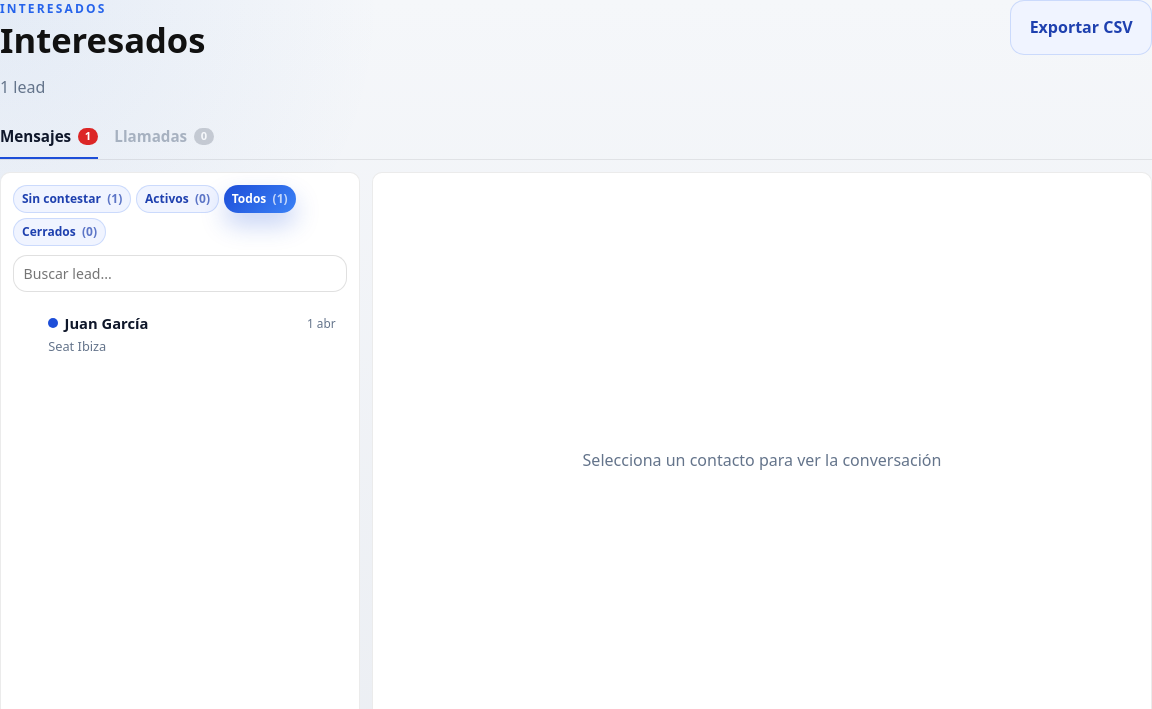
LeadsList — edit mode › enters edit mode on Editar click
What coordinates should you click on to do the following:
click the text "Juan García"
I would click on:
 (98, 323)
Its box is [48, 312, 148, 334].
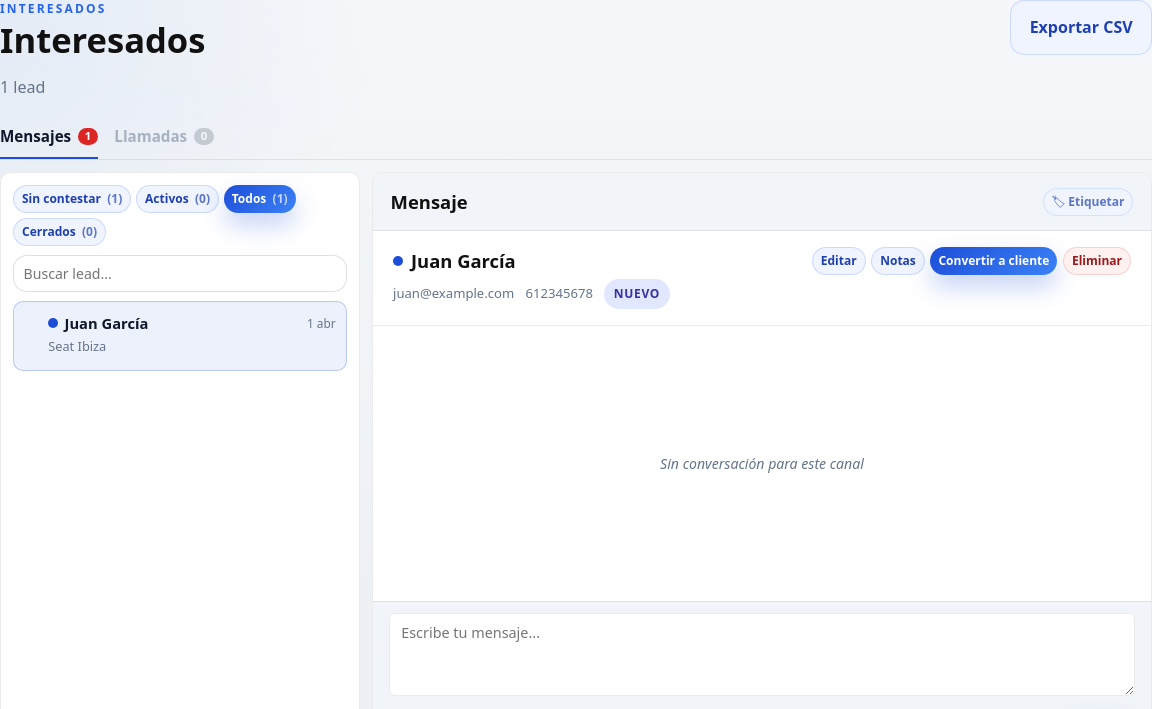
What coordinates should you click on to do the following:
click the button "Editar"
I would click on:
 (839, 261)
Its box is [812, 247, 866, 275].
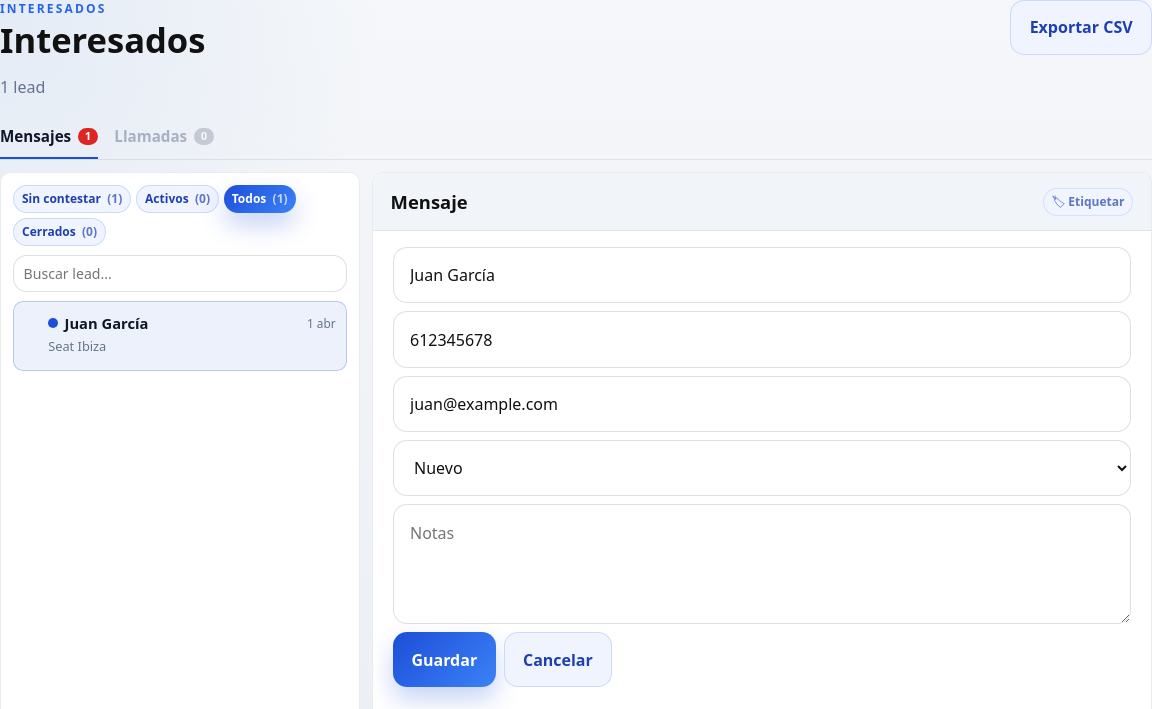
Check: the 1st field with placeholder "Nombre" is shown, box [393, 247, 1131, 303]
